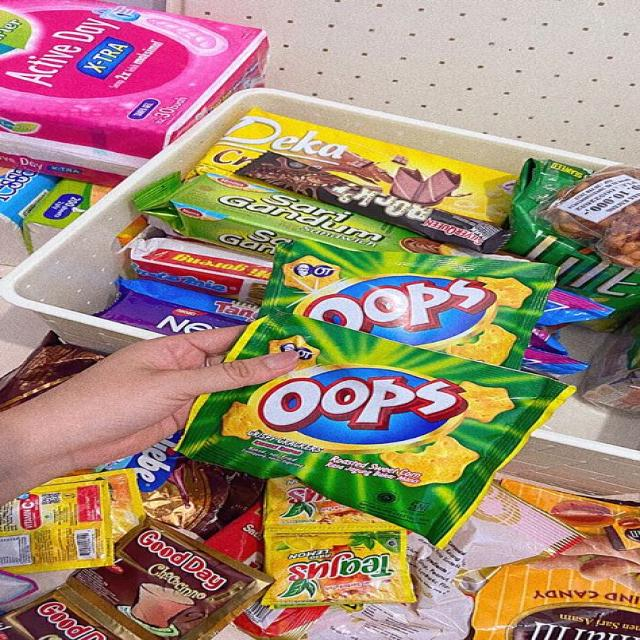KemasanPlastik: (428, 31, 640, 266), (192, 69, 467, 249), (3, 207, 307, 360)
